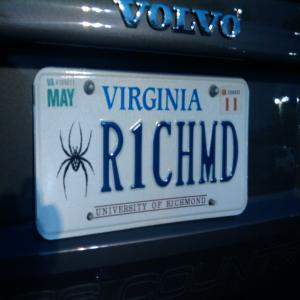Vehicle-registration-plate: (34, 68, 256, 235)
